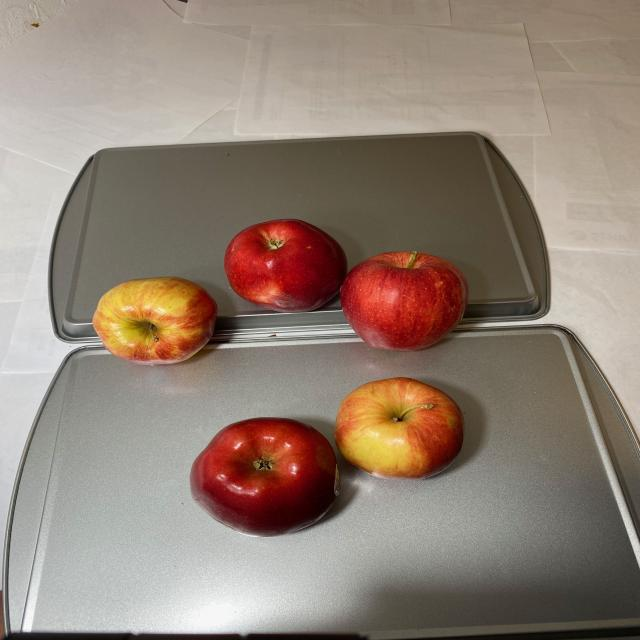apple: (93, 217, 473, 366), (184, 380, 469, 536)
